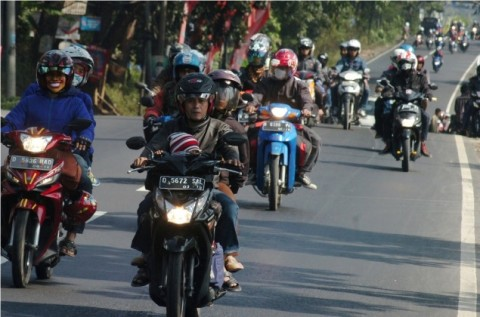plate: (159, 174, 203, 192), (9, 155, 54, 171), (261, 120, 288, 131), (396, 102, 418, 113)
